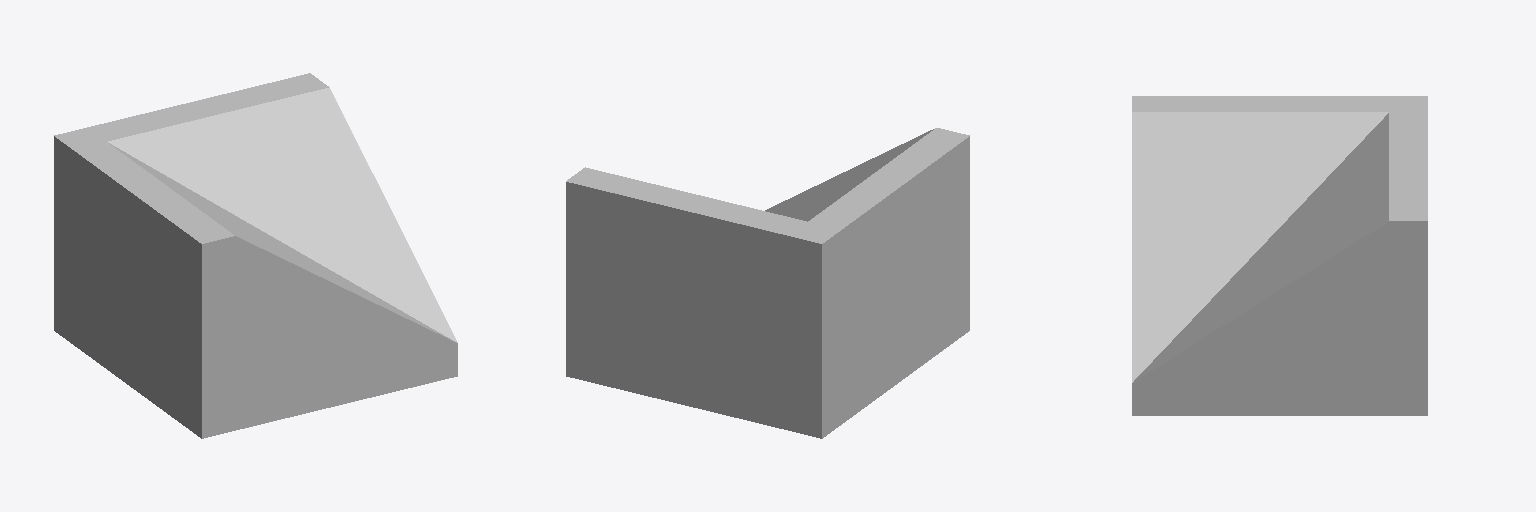
Rendered from roof-slanted-corner-inner.obj.
The picture shows the model from 3 angles: view 1: azimuth 30°, elevation 25°; view 2: azimuth 150°, elevation 25°; view 3: azimuth 270°, elevation 25°; orthographic projection.
Visible parts, largest first — view 1: roof-slanted-corner-inner; view 2: roof-slanted-corner-inner; view 3: roof-slanted-corner-inner.
Boxes of the visible parts, box(x1,y1,x2,y2) form: roof-slanted-corner-inner: box(54, 73, 457, 438); roof-slanted-corner-inner: box(566, 128, 969, 438); roof-slanted-corner-inner: box(1132, 96, 1427, 415).
Bounding box in the file's own units: 1 × 0.725 × 1.